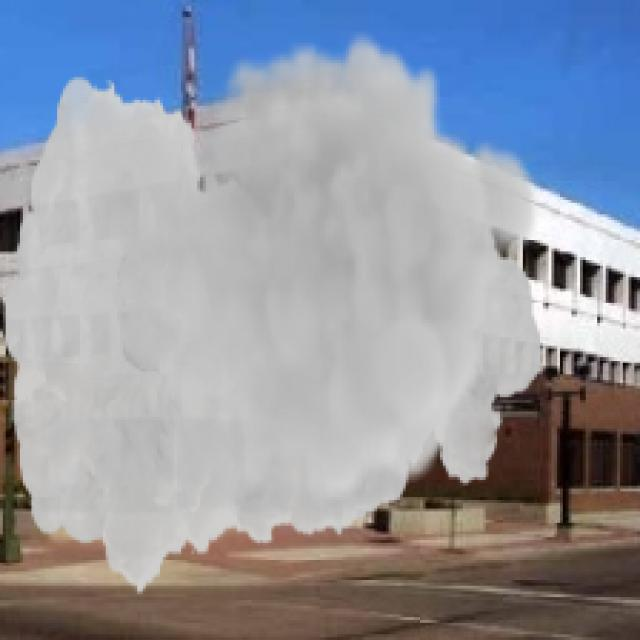Smoke: (3, 31, 543, 598)
